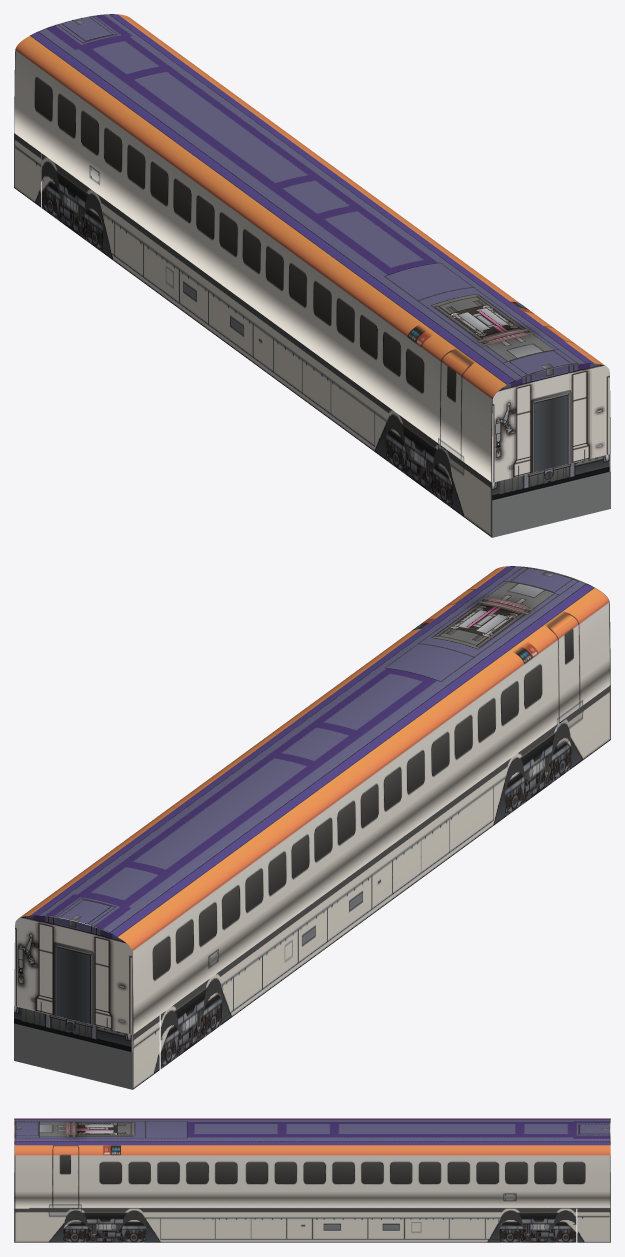
File: car3.glb
3 renders of one model, top to bottom at view 1: azimuth 30°, elevation 25°; view 2: azimuth 150°, elevation 25°; view 3: azimuth 270°, elevation 25°, orthographic. The views are drawn at different scales.
Visible parts, largest first — view 1: jr-east-e8-car3; view 2: jr-east-e8-car3; view 3: jr-east-e8-car3.
Part boxes in pixels (left/top/right/bottom): jr-east-e8-car3: left=14, top=14, right=610, bottom=537; jr-east-e8-car3: left=14, top=566, right=610, bottom=1089; jr-east-e8-car3: left=14, top=1118, right=610, bottom=1242.
Size of the model in its own units: 2.94 by 3.65 by 20.53.
Materials: 9 (8 with a texture image).
